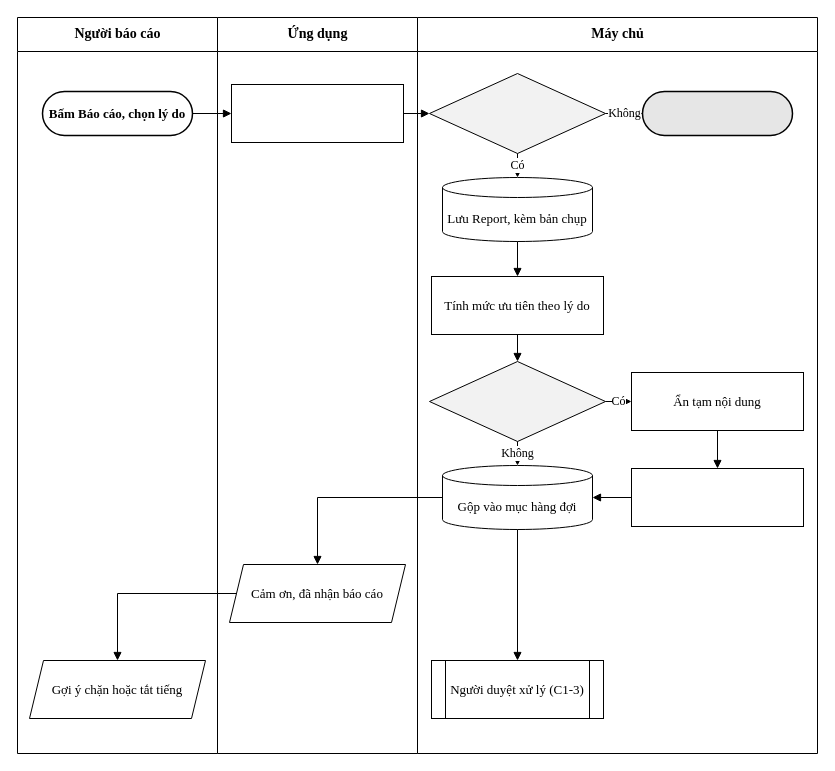
This 835x771 diagram has some shape labels left out. Here are the shapes that lost their labels. From the top down, the centre of each, then its label:
the point at 317,113: Gửi POST /reports
the point at 517,113: Hợp lệ, chưa vượt giới hạn?
the point at 717,113: Từ chối, trả lỗi
the point at 517,401: Đủ ngưỡng tự ẩn?
the point at 717,497: Báo người đăng: đang xem xét
